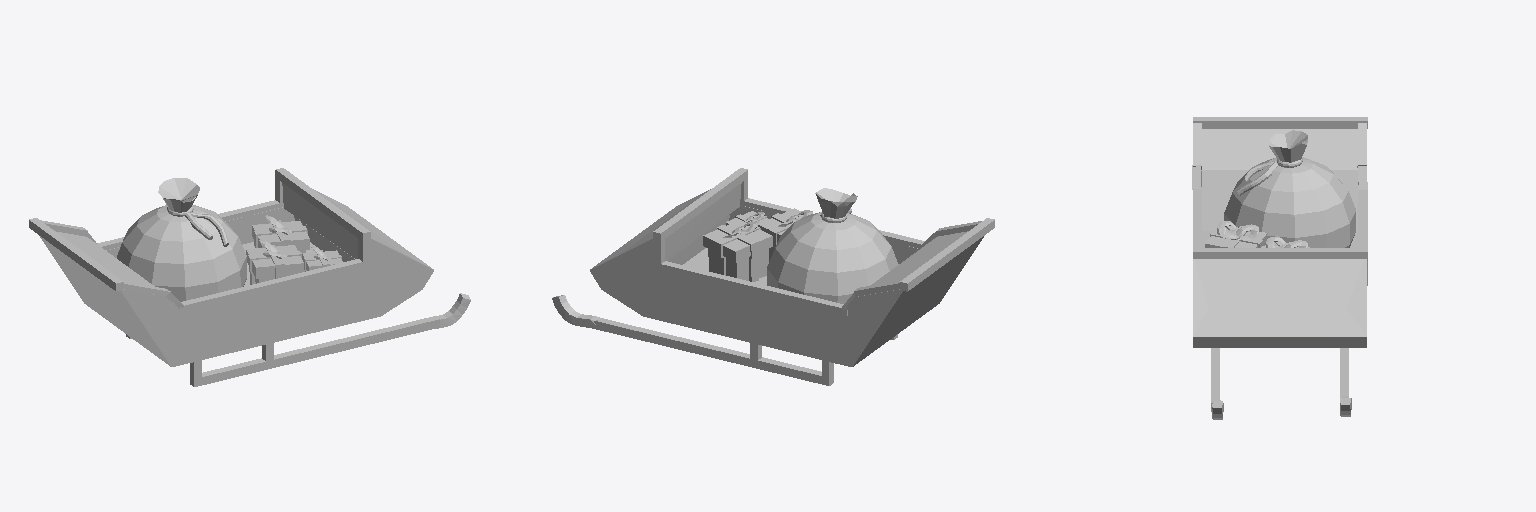
Rendered from Santasleigh.obj.
3 renders of one model, left to right at view 1: azimuth 30°, elevation 25°; view 2: azimuth 150°, elevation 25°; view 3: azimuth 270°, elevation 25°, orthographic.
Parts seen in each view (by area): view 1: group[number redacted], group[number redacted], group[number redacted], group[number redacted], group[number redacted], group[number redacted], group[number redacted], group[number redacted], group[number redacted], group[number redacted], group[number redacted], group[number redacted] (+2 smaller); view 2: group[number redacted], group[number redacted], group[number redacted], group[number redacted], group[number redacted], group[number redacted], group[number redacted], group[number redacted], group[number redacted], group[number redacted], group[number redacted], group[number redacted] (+2 smaller); view 3: group[number redacted], group[number redacted], group[number redacted], group[number redacted], group[number redacted], group[number redacted], group[number redacted], group[number redacted], group[number redacted].
Part boxes in pixels (x1,y1,x2,y2): group[number redacted]: (117, 205, 246, 301); group[number redacted]: (40, 231, 196, 366); group[number redacted]: (282, 183, 433, 315); group[number redacted]: (164, 242, 380, 366); group[number redacted]: (172, 263, 383, 335); group[number redacted]: (246, 215, 342, 284); group[number redacted]: (190, 316, 439, 386); group[number redacted]: (180, 259, 370, 312); group[number redacted]: (29, 218, 123, 291); group[number redacted]: (280, 171, 370, 241); group[number redacted]: (158, 178, 199, 212); group[number redacted]: (106, 207, 294, 257); group[number redacted]: (767, 212, 898, 303); group[number redacted]: (822, 231, 983, 366); group[number redacted]: (590, 183, 741, 315); group[number redacted]: (643, 248, 859, 366); group[number redacted]: (646, 269, 861, 336); group[number redacted]: (703, 208, 812, 281); group[number redacted]: (592, 317, 833, 385); group[number redacted]: (657, 261, 847, 315); group[number redacted]: (900, 218, 994, 291); group[number redacted]: (653, 168, 747, 241); group[number redacted]: (815, 188, 857, 218); group[number redacted]: (740, 198, 924, 248); group[number redacted]: (1193, 259, 1366, 347); group[number redacted]: (1224, 157, 1355, 247); group[number redacted]: (1201, 129, 1358, 230); group[number redacted]: (1193, 117, 1367, 128); group[number redacted]: (1193, 248, 1367, 259); group[number redacted]: (1205, 221, 1309, 247); group[number redacted]: (1269, 130, 1307, 162); group[number redacted]: (1193, 187, 1201, 247); group[number redacted]: (1359, 190, 1367, 285).
Bounding box in the file's own units: 1.89 × 0.8314 × 0.7835.